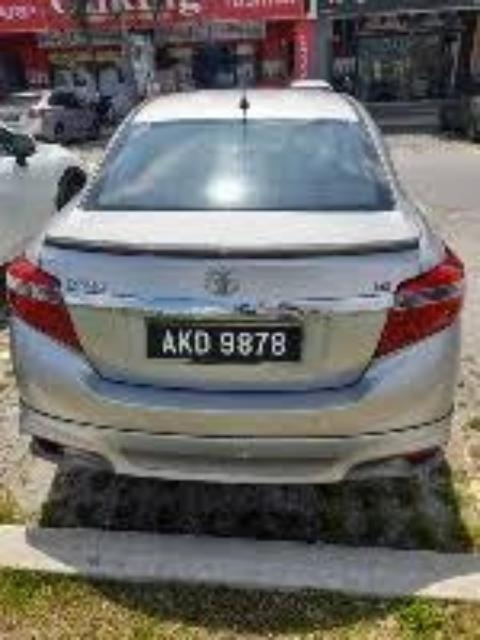License_Plate: (138, 310, 312, 382)
car: (5, 88, 464, 493)
